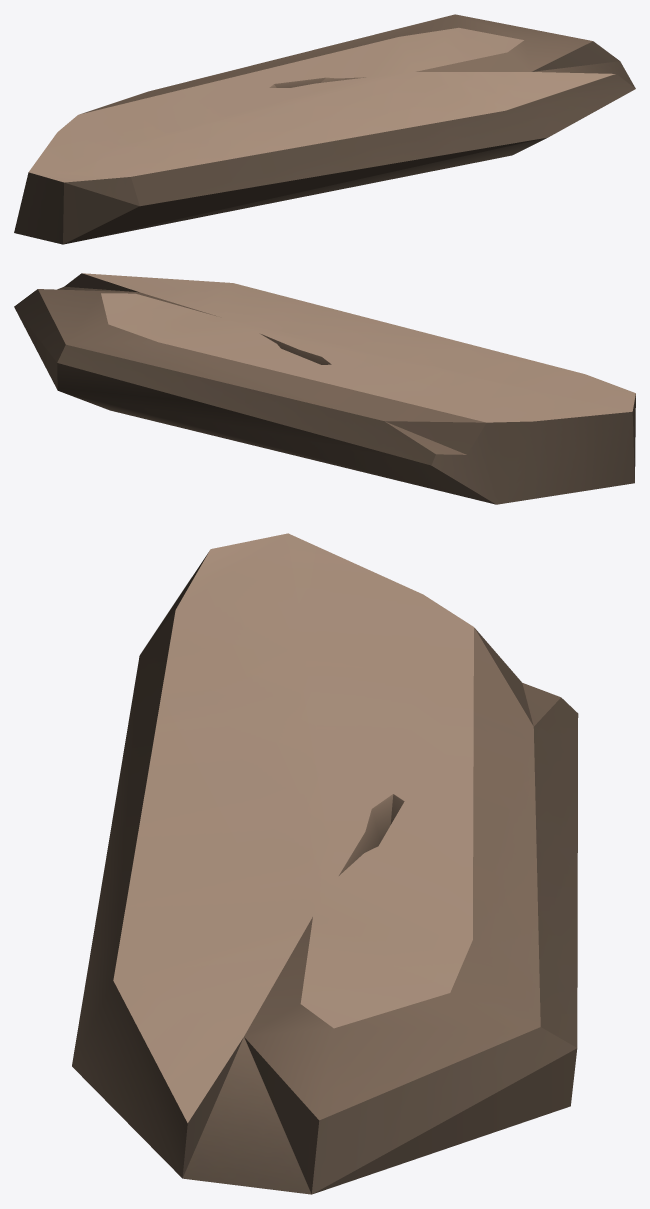
Rendered from Stone_Step_4C.fbx.
3 renders of one model, top to bottom at view 1: azimuth 30°, elevation 25°; view 2: azimuth 150°, elevation 25°; view 3: azimuth 270°, elevation 25°, orthographic. The views are drawn at different scales.
Parts seen in each view (by area): view 1: Stone_Step_4C; view 2: Stone_Step_4C; view 3: Stone_Step_4C.
Part boxes in pixels (x1,y1,x2,y2): Stone_Step_4C: (14,14,635,244); Stone_Step_4C: (14,273,635,504); Stone_Step_4C: (72,533,578,1194).
Bounding box in the file's own units: 3.2 × 0.3189 × 1.16.
